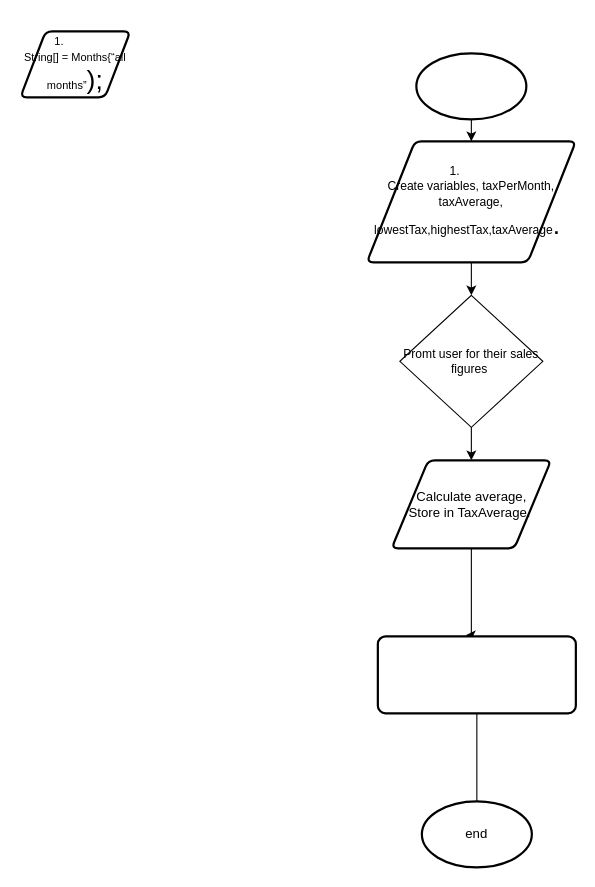
Some shapes in this 595 by 887 pixel diagram are drawn without their labels. The shapes that lost their labels are listed below. From the top down, each one's centre as x and y in pixels, then its label:
At (471,86): "start".
At (476,674): "Dialog window. Lowest / highest. Average warning.".
